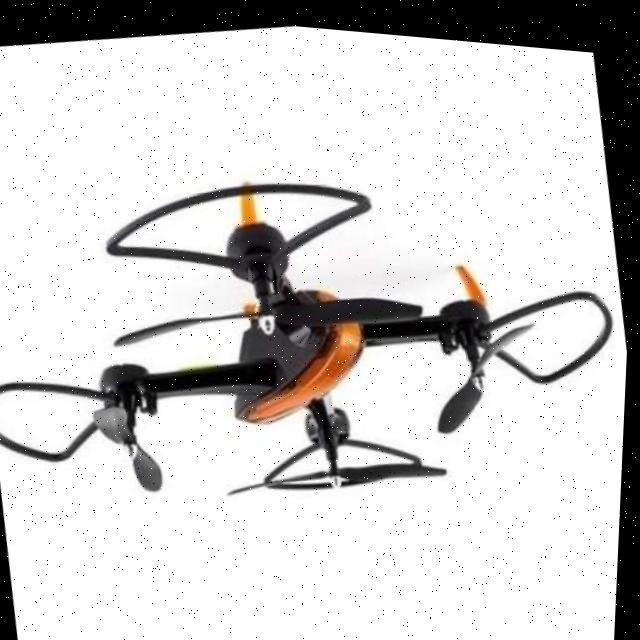drones: (0, 96, 637, 567)
